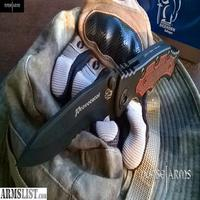knife: (11, 44, 180, 173)
